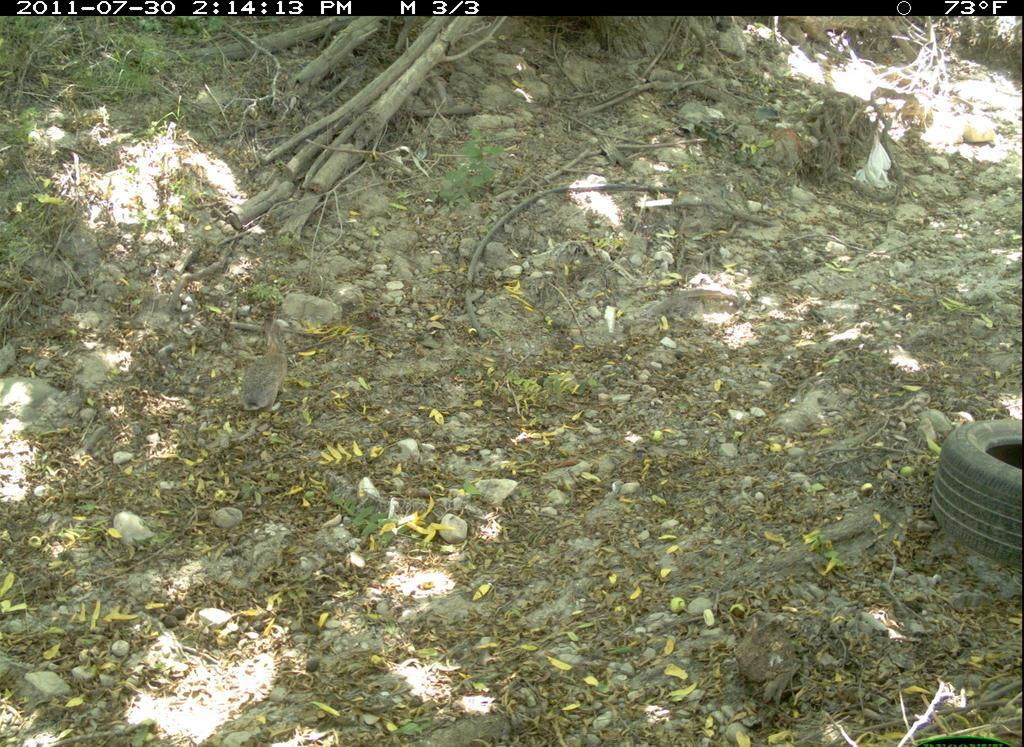rabbit: (233, 314, 296, 419)
